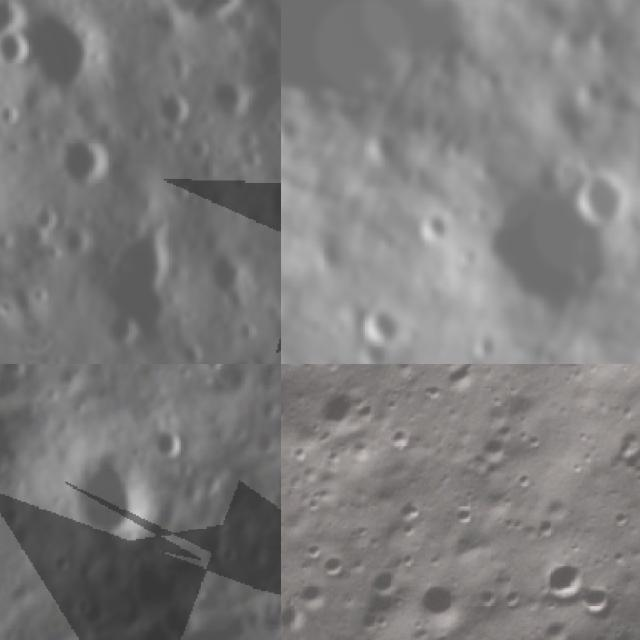crater: (458, 177, 620, 316), (281, 0, 487, 106), (74, 442, 178, 548), (19, 0, 105, 91), (304, 373, 382, 451), (401, 569, 475, 640), (533, 545, 599, 613), (54, 124, 118, 190), (566, 571, 630, 634), (462, 422, 520, 480), (572, 165, 626, 225), (212, 71, 263, 122), (358, 557, 409, 608), (154, 84, 206, 130), (0, 21, 41, 79), (161, 592, 210, 640), (292, 569, 340, 616), (101, 304, 145, 354), (56, 218, 99, 264), (362, 300, 404, 346), (312, 544, 355, 588), (415, 207, 455, 249), (363, 124, 404, 163), (160, 417, 193, 464), (574, 76, 612, 114), (28, 202, 64, 236), (356, 334, 396, 364), (591, 19, 618, 62), (473, 328, 507, 359), (535, 339, 558, 364)
